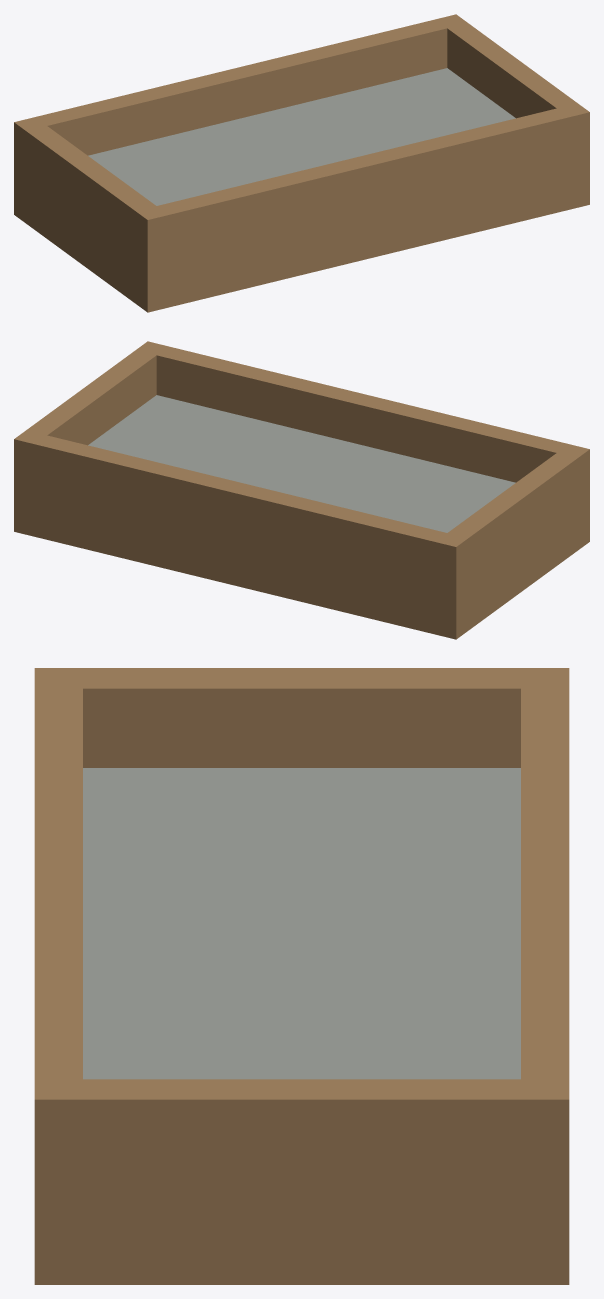
The model's file is campaign_planter.glb.
3 views of the same model, one above another, from view 1: azimuth 30°, elevation 25°; view 2: azimuth 150°, elevation 25°; view 3: azimuth 270°, elevation 25° (orthographic). The views are drawn at different scales.
Parts seen in each view (by area): view 1: campaign_planter; view 2: campaign_planter; view 3: campaign_planter.
Part boxes in pixels (<box>): campaign_planter: <box>14,14,589,312</box>; campaign_planter: <box>14,341,589,639</box>; campaign_planter: <box>34,668,569,1284</box>.
Bounding box in the file's own units: 2.1 × 0.42 × 1.1.
